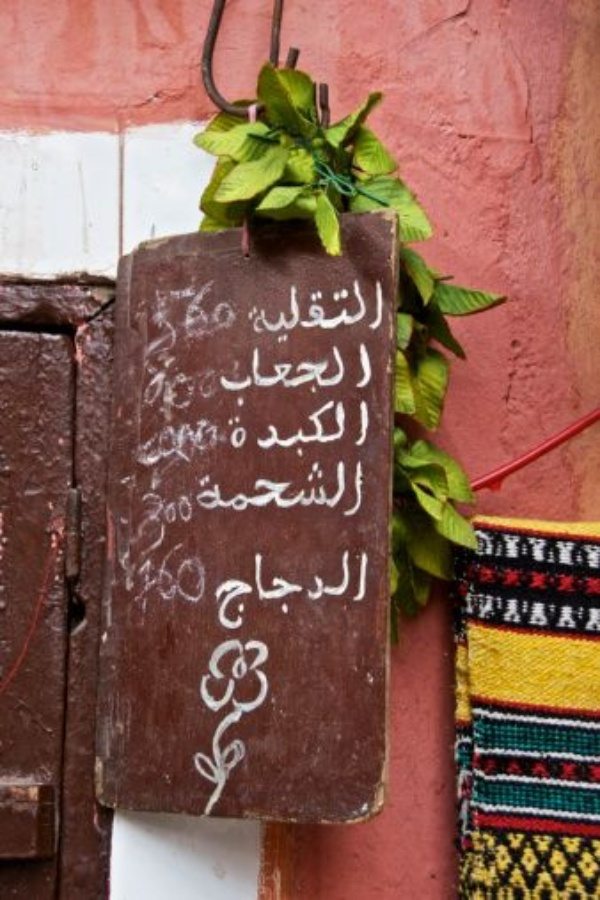text: (225, 544, 240, 632), (241, 544, 256, 632), (257, 544, 272, 632), (273, 544, 288, 632), (289, 544, 304, 632), (305, 544, 320, 632), (321, 544, 336, 632), (337, 544, 352, 632), (353, 544, 368, 632), (129, 538, 144, 624), (145, 538, 160, 624), (161, 538, 176, 624), (177, 538, 192, 624), (193, 538, 208, 624), (161, 279, 176, 361), (177, 279, 192, 361), (193, 279, 208, 361), (209, 279, 224, 361), (114, 538, 128, 624), (145, 480, 160, 560), (161, 480, 176, 560), (177, 480, 192, 560), (145, 348, 160, 419), (161, 348, 176, 419), (177, 348, 192, 419), (193, 348, 208, 419), (212, 544, 224, 632), (257, 276, 272, 345), (273, 276, 288, 345), (289, 276, 304, 345), (305, 276, 320, 345), (321, 276, 336, 345), (337, 276, 352, 345), (353, 276, 368, 345), (369, 276, 384, 345), (225, 340, 240, 409), (241, 340, 256, 409), (257, 340, 272, 409), (273, 340, 288, 409), (289, 340, 304, 409), (305, 340, 320, 409), (321, 340, 336, 409), (337, 340, 352, 409), (353, 340, 368, 409), (148, 279, 160, 361), (225, 279, 237, 361), (225, 396, 240, 458), (241, 396, 256, 458), (257, 396, 272, 458), (273, 396, 288, 458), (289, 396, 304, 458), (305, 396, 320, 458), (321, 396, 336, 458), (337, 396, 352, 458), (353, 396, 368, 458), (209, 458, 224, 519), (225, 458, 240, 519), (241, 458, 256, 519), (257, 458, 272, 519), (273, 458, 288, 519), (289, 458, 304, 519), (305, 458, 320, 519), (321, 458, 336, 519), (337, 458, 352, 519), (353, 458, 368, 519), (145, 412, 160, 473), (161, 412, 176, 473), (177, 412, 192, 473), (193, 412, 208, 473), (194, 458, 208, 519), (209, 348, 221, 419), (247, 276, 256, 345), (134, 412, 144, 473), (209, 412, 219, 473), (369, 340, 377, 409), (385, 276, 391, 345), (139, 480, 144, 560), (193, 480, 198, 560), (369, 396, 375, 458), (369, 544, 372, 632), (141, 348, 144, 419), (221, 340, 224, 409), (209, 538, 210, 624)
